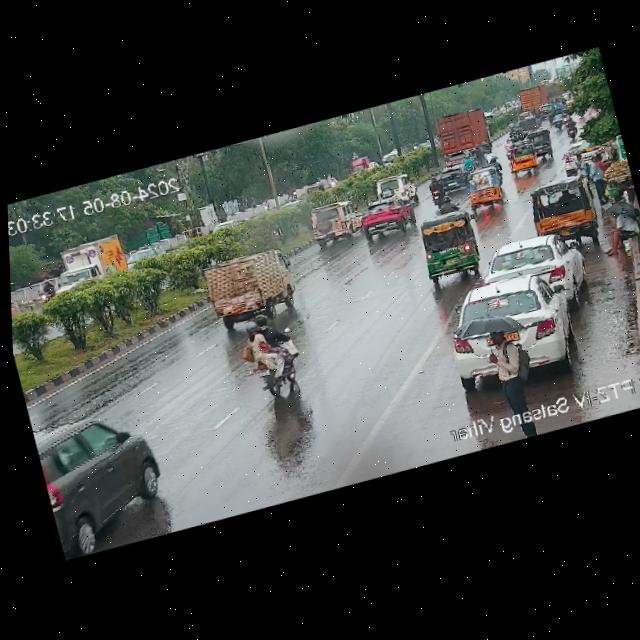car: (32, 398, 180, 561), (442, 264, 589, 387), (478, 225, 585, 308), (525, 173, 601, 246), (414, 209, 485, 287), (356, 190, 420, 242), (305, 195, 365, 249), (556, 133, 612, 175), (463, 164, 505, 213), (372, 171, 419, 206), (505, 136, 542, 174), (437, 162, 470, 194), (525, 128, 556, 160), (442, 151, 465, 168)
motorcycle: (238, 304, 309, 400), (550, 107, 580, 142), (500, 118, 525, 146), (427, 175, 447, 206), (438, 194, 458, 214), (460, 151, 475, 172), (502, 138, 514, 158), (533, 110, 543, 127), (484, 148, 495, 160), (489, 156, 499, 169), (473, 158, 483, 170)
person: (461, 309, 529, 376), (591, 203, 640, 260), (579, 150, 617, 202), (573, 152, 586, 175)
truck: (196, 241, 306, 332), (47, 233, 127, 293), (435, 107, 493, 164), (508, 80, 551, 114)
